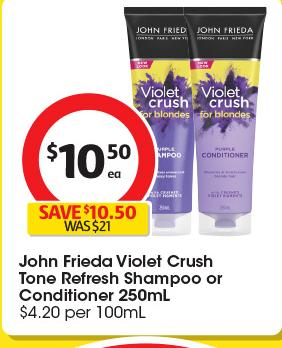description_block: (14, 248, 231, 302)
price_main: (13, 107, 156, 199)
product_image_block: (111, 3, 266, 245)
promo_text_block: (22, 201, 158, 240)
unit_price_block: (11, 303, 152, 326)
